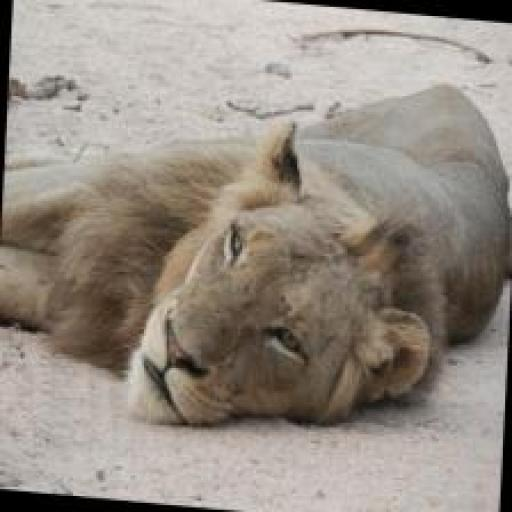lion: (0, 41, 512, 457)
